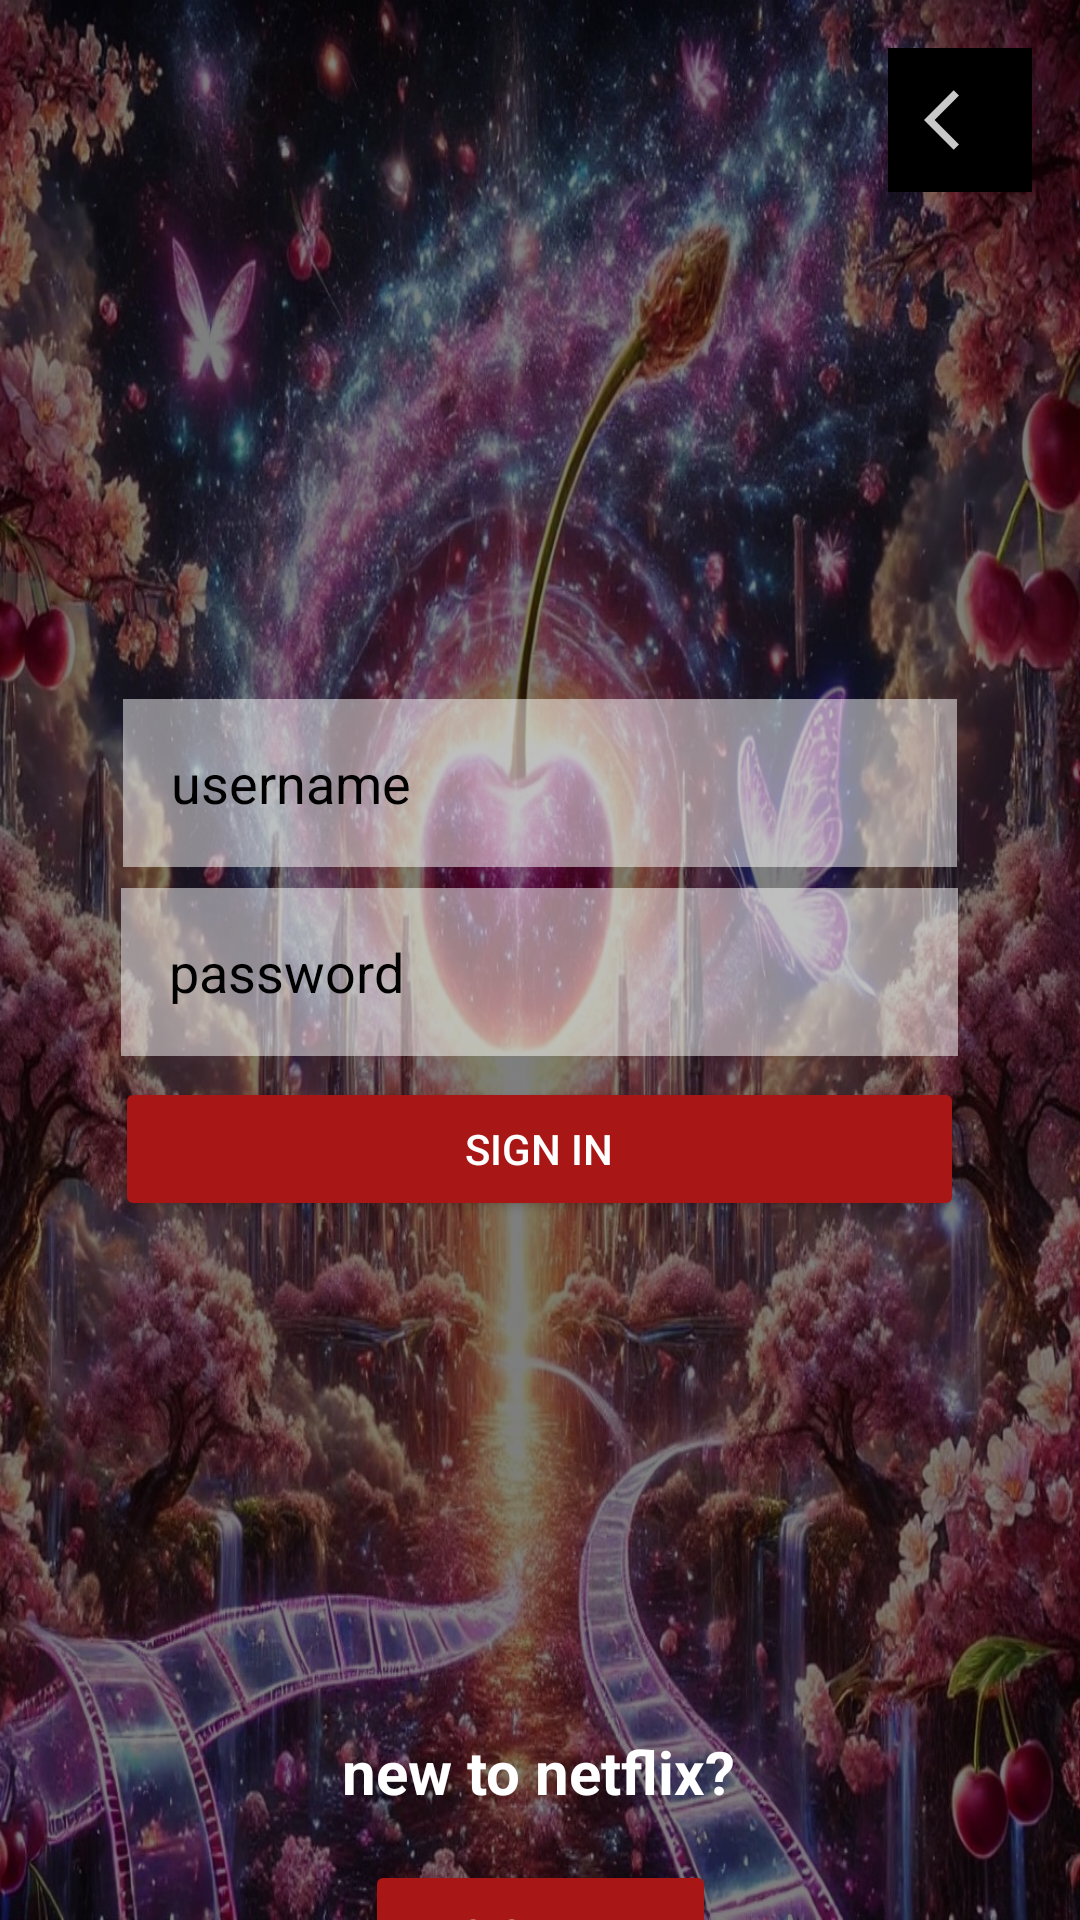

Point at icon controls on the screen. Image size 1080 x 1920, points as (x,y).
Back: (960,120)
